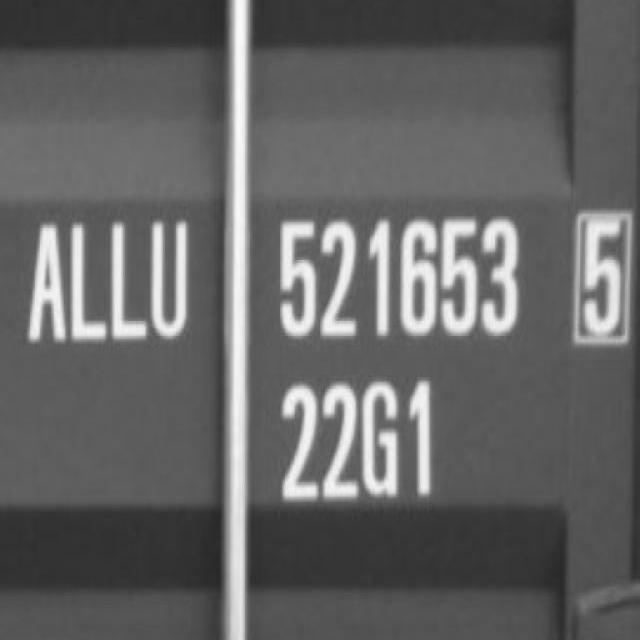dv: (560, 201, 640, 353)
owner: (25, 206, 193, 356)
serial: (272, 202, 527, 350)
size: (276, 365, 437, 509)
